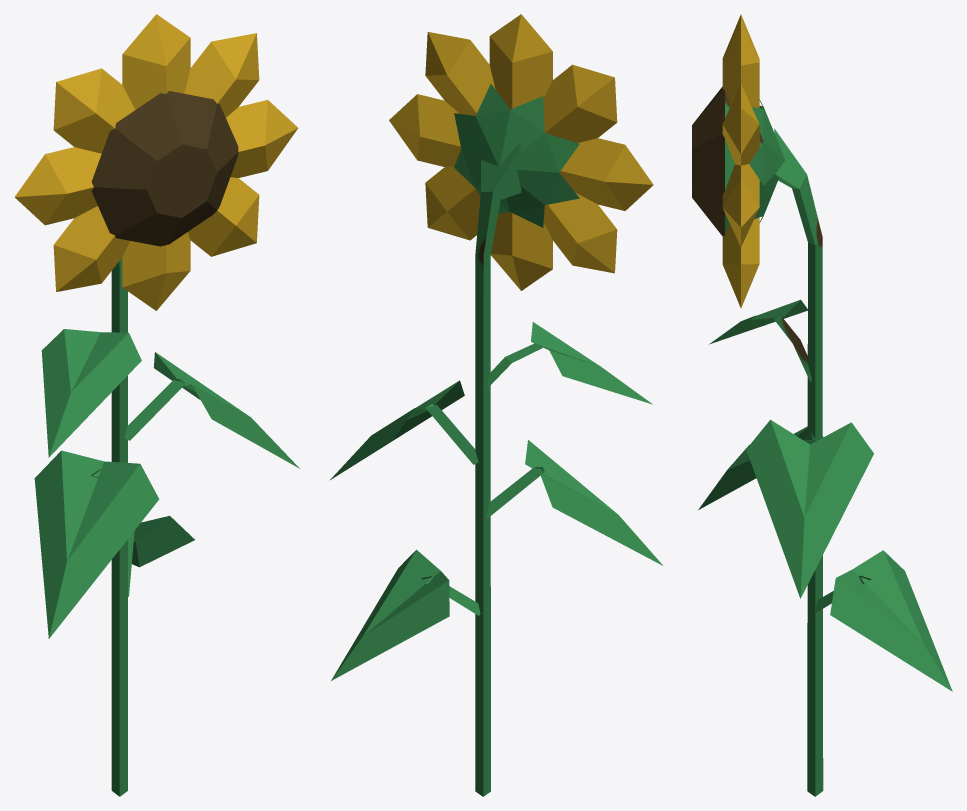
File: sunflower.fbx
3 views of the same model, side by side, from view 1: azimuth 30°, elevation 25°; view 2: azimuth 150°, elevation 25°; view 3: azimuth 270°, elevation 25° (orthographic). The views are drawn at different scales.
Visible parts, largest first — view 1: sunflower; view 2: sunflower; view 3: sunflower.
Boxes of the visible parts, bbox=[...] form: sunflower: bbox=[14, 14, 299, 796]; sunflower: bbox=[330, 14, 662, 796]; sunflower: bbox=[692, 14, 952, 796].
Size of the model in its own units: 70.35 by 171 by 52.34.
